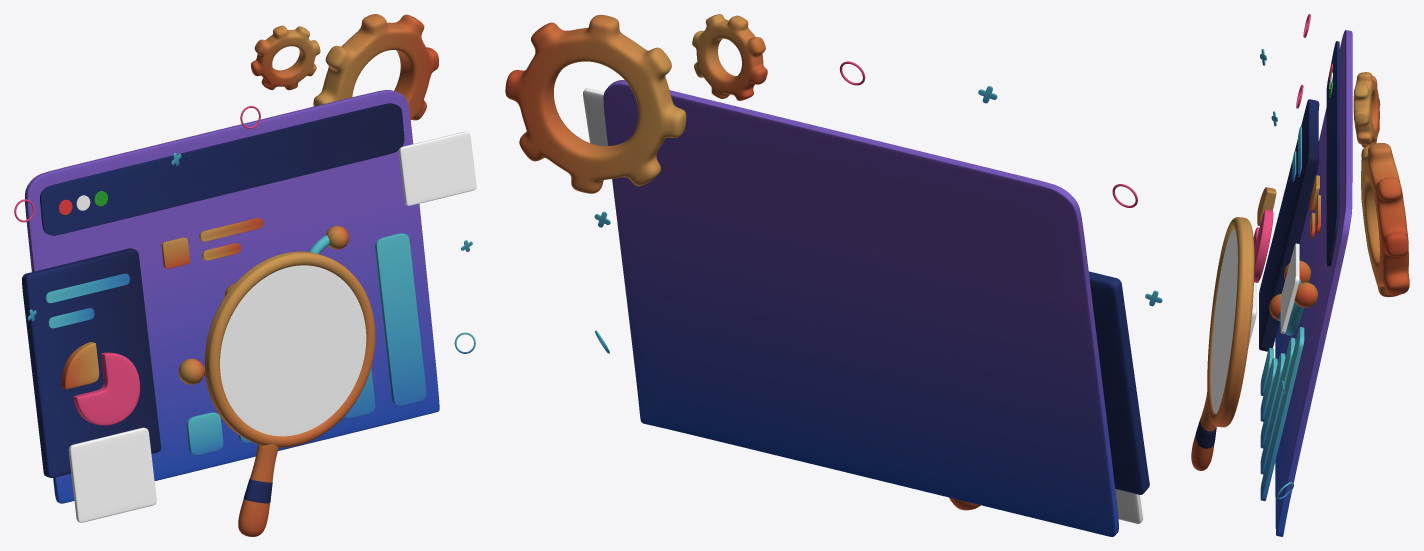
File: analytics-3d-animated-icon-1386647838509.glb
3 views of the same model, side by side, from view 1: azimuth 30°, elevation 25°; view 2: azimuth 150°, elevation 25°; view 3: azimuth 270°, elevation 25° (orthographic). The views are drawn at different scales.
Visible parts, largest first — view 1: Cube.008, Magnifying Glass, Cube.001, Frame, Magnifying Glass.001, Cube.006, Gear.001, Cube.023, Cube.019, Frame.004, Gear.003, Cube.004 (+8 smaller); view 2: Cube.008, Gear.001, Frame, Gear.003, Cube.019, Cube.006; view 3: Cube.008, Gear.001, Magnifying Glass.001, Frame, Magnifying Glass, Cube.001, Gear.003, Cube.023, Cube.019, Cube.014, Frame.004, Cube.010 (+7 smaller).
Part boxes in pixels (x1,y1,x2,y2): Cube.008: (25,90,439,503); Magnifying Glass: (220,265,366,436); Cube.001: (40,103,404,235); Frame: (22,248,161,477); Magnifying Glass.001: (204,251,375,536); Cube.006: (68,427,156,522); Gear.001: (313,14,438,120); Cube.023: (375,233,426,405); Cube.019: (399,131,476,205); Frame.004: (73,352,139,425); Gear.003: (251,25,320,90); Cube.004: (186,412,223,455); Cube.008: (603,80,1118,536); Gear.001: (505,14,686,193); Frame: (1088,271,1149,494); Gear.003: (692,14,767,100); Cube.019: (583,88,607,145); Cube.006: (1115,489,1143,523); Cube.008: (1275,30,1352,536); Gear.001: (1361,143,1409,297); Magnifying Glass.001: (1191,217,1254,470); Frame: (1259,99,1319,351); Magnifying Glass: (1210,229,1237,413); Cube.001: (1326,41,1339,266); Gear.003: (1353,72,1380,147); Cube.023: (1260,327,1304,501); Cube.019: (1280,243,1299,333); Cube.014: (1260,337,1295,474); Frame.004: (1253,209,1273,282); Cube.010: (1260,353,1285,448).
Bounding box in the file's own units: 6.22 × 5.43 × 2.39.
Materials: 12 (7 with a texture image).
